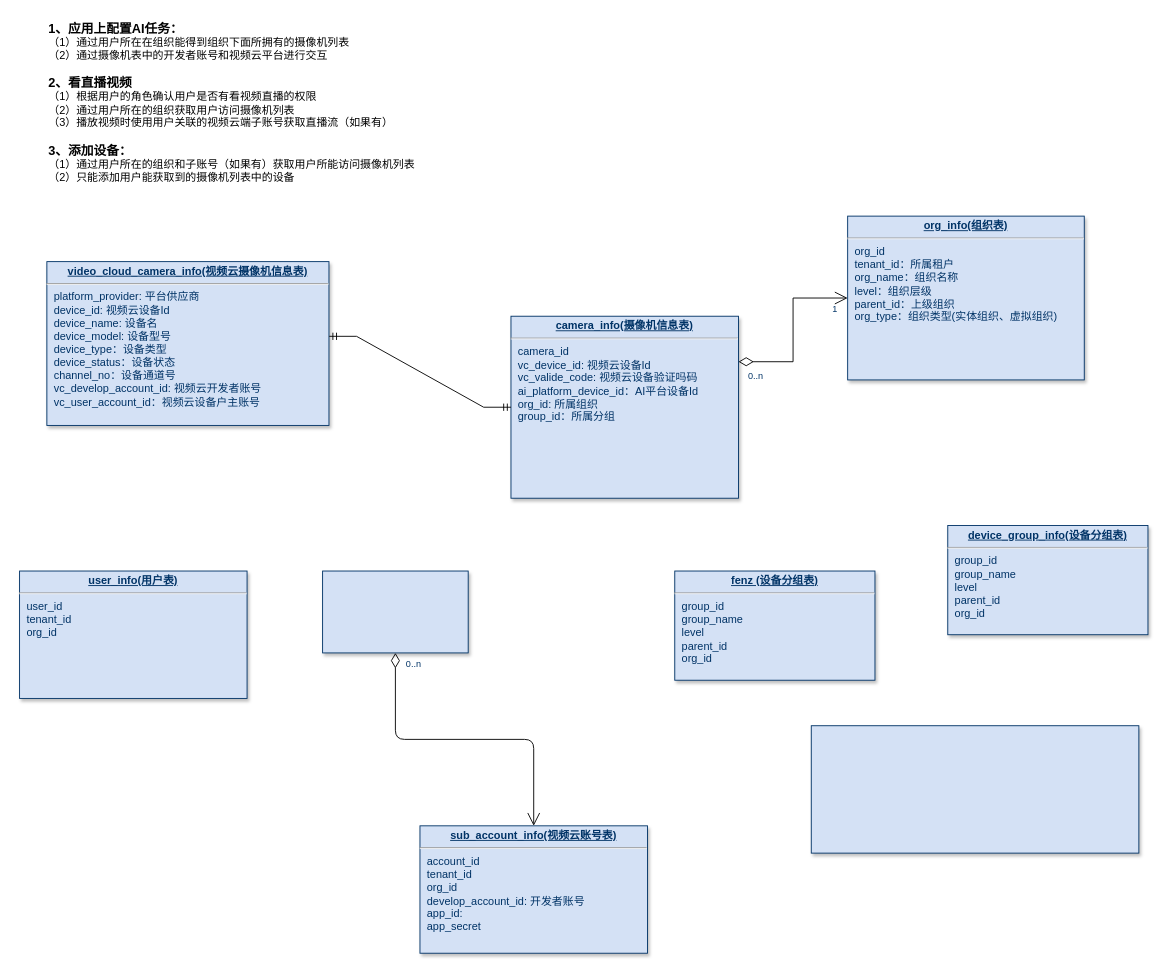
The diagram is 1169 pixels wide and 976 high, and some of its shapes have lost their labels. Each missing label, with the centre of its shape:
"tenant_info(租户表) tenant_id tenate_name" belongs at point 396,612.
"video_cloud_develop_account_info(视频云开发在账号表) account_id app_id: app_secret" belongs at point 975,790.
